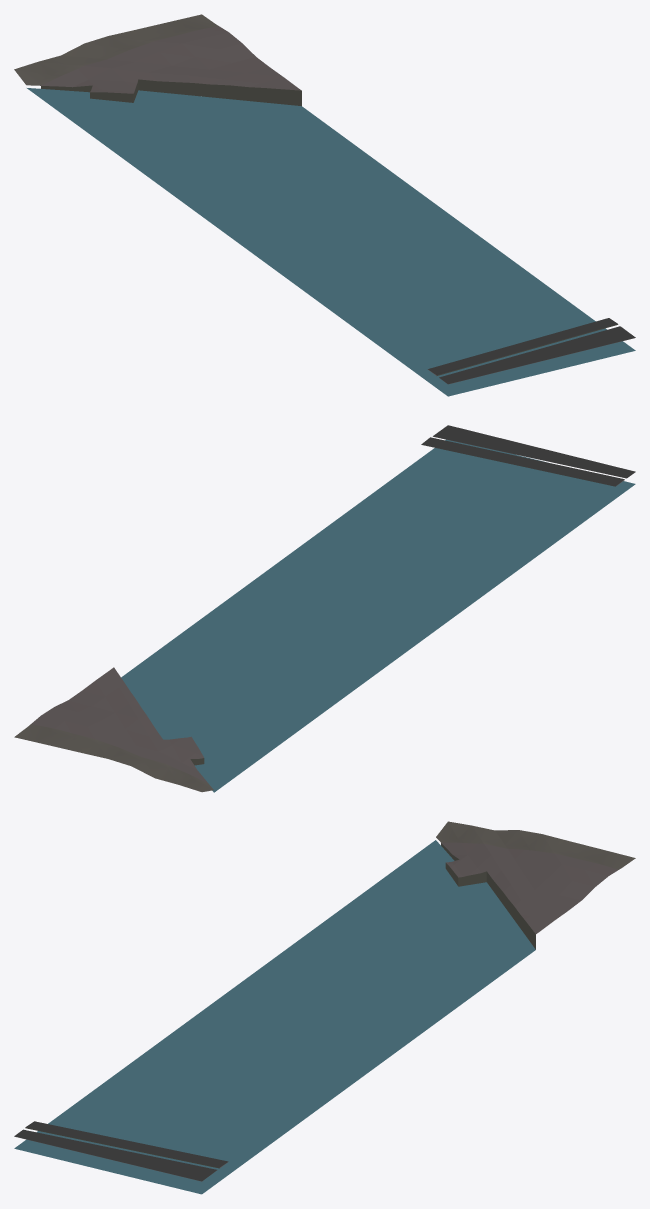
3 renders of one model, top to bottom at view 1: azimuth 30°, elevation 25°; view 2: azimuth 150°, elevation 25°; view 3: azimuth 330°, elevation 25°, orthographic.
Visible parts, largest first — view 1: c_p06_m09; view 2: c_p06_m09; view 3: c_p06_m09.
Part boxes in pixels (<box>): c_p06_m09: <box>14,14,635,396</box>; c_p06_m09: <box>14,425,635,792</box>; c_p06_m09: <box>14,821,635,1194</box>.
Bounding box in the file's own units: 32 × 3.43 × 128.
